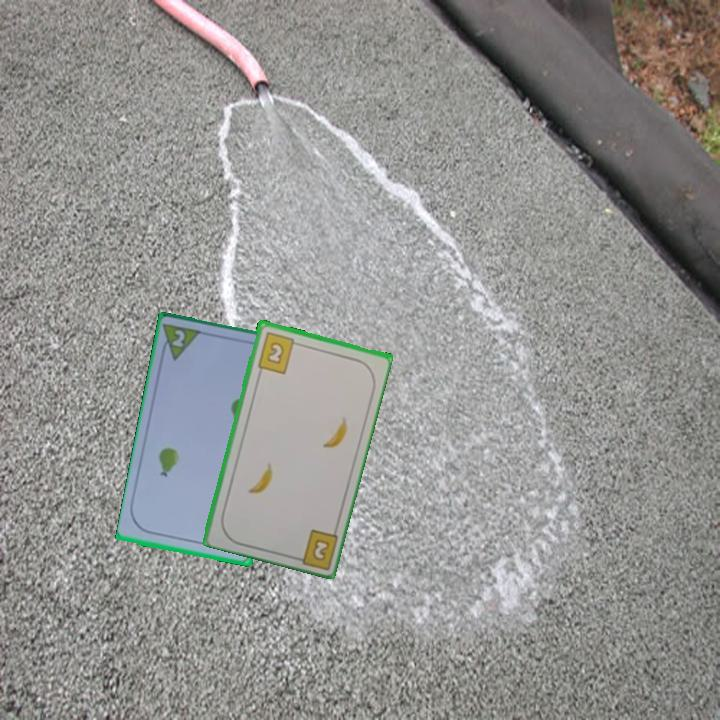2b: (254, 328, 303, 376), (308, 535, 332, 563)
2p: (169, 326, 188, 351)
